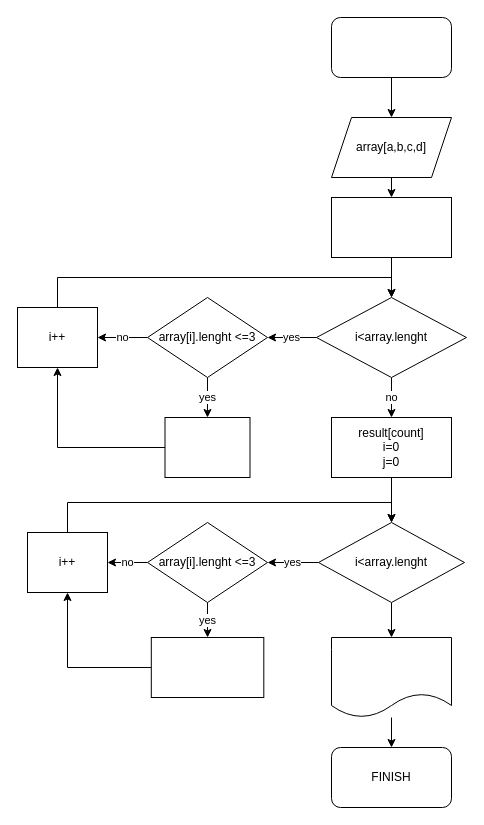
This 484x825 diagram has some shape labels left out. The shapes that lost their labels are listed below. From the top down, each one's box as (x1, y1, x2, y2) in pixels, then its label:
(330, 16, 452, 78): Start
(330, 196, 452, 258): count = 0 i = 0
(164, 416, 250, 478): count++
(150, 636, 264, 698): result[j] = array[i] j++
(330, 636, 452, 718): print result
